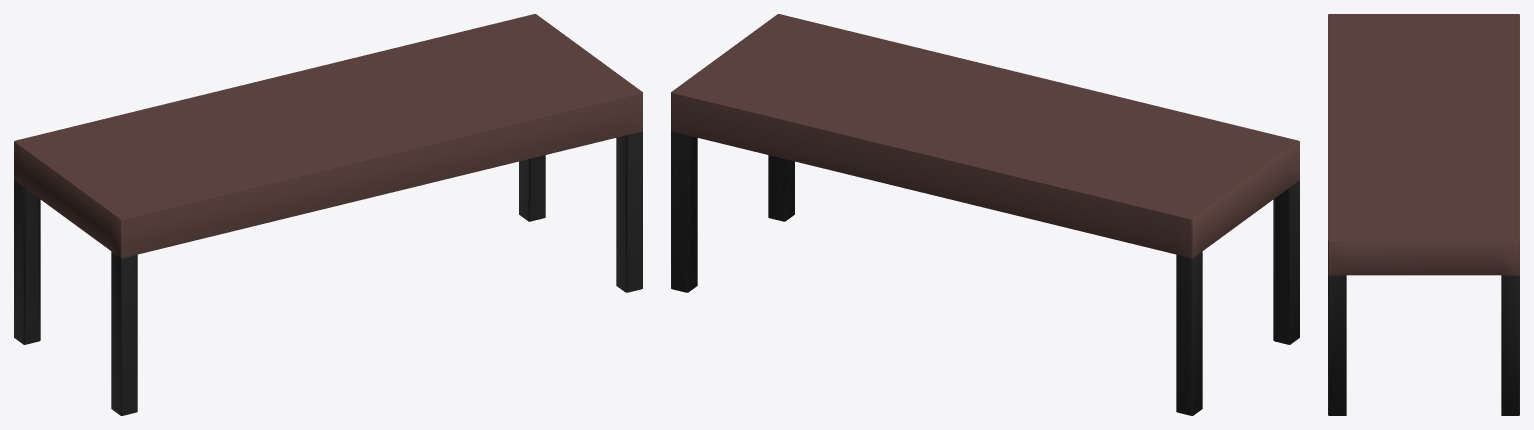
Rendered from Desk.fbx.
3 renders of one model, left to right at view 1: azimuth 30°, elevation 25°; view 2: azimuth 150°, elevation 25°; view 3: azimuth 270°, elevation 25°, orthographic. The views are drawn at different scales.
Parts seen in each view (by area): view 1: Cube.022; view 2: Cube.022; view 3: Cube.022.
Part boxes in pixels (box(x1,y1,x2,y2)): Cube.022: box(14, 14, 642, 415); Cube.022: box(671, 14, 1299, 415); Cube.022: box(1328, 14, 1519, 415).
Size of the model in its own units: 280 by 101 by 100.
